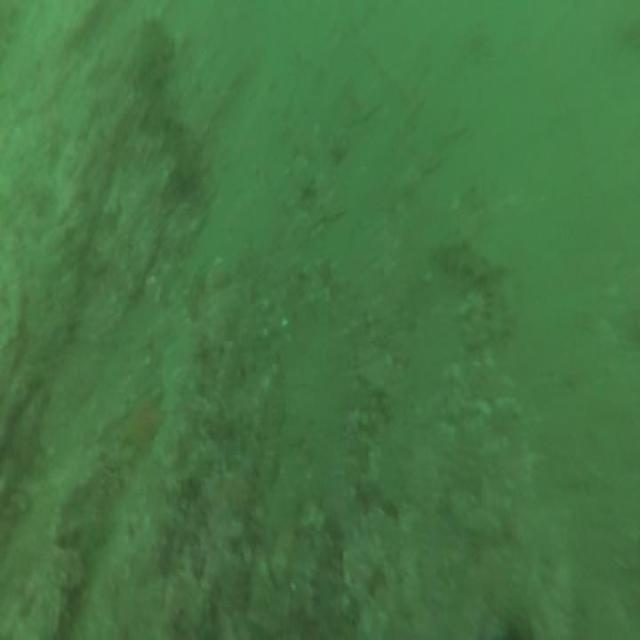holothurian: (436, 232, 513, 337)
starfish: (123, 392, 165, 452)
